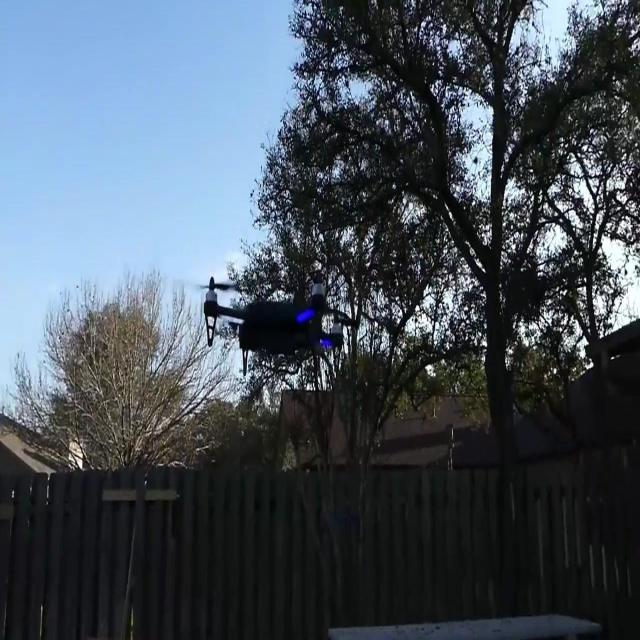drone: (201, 274, 353, 394)
